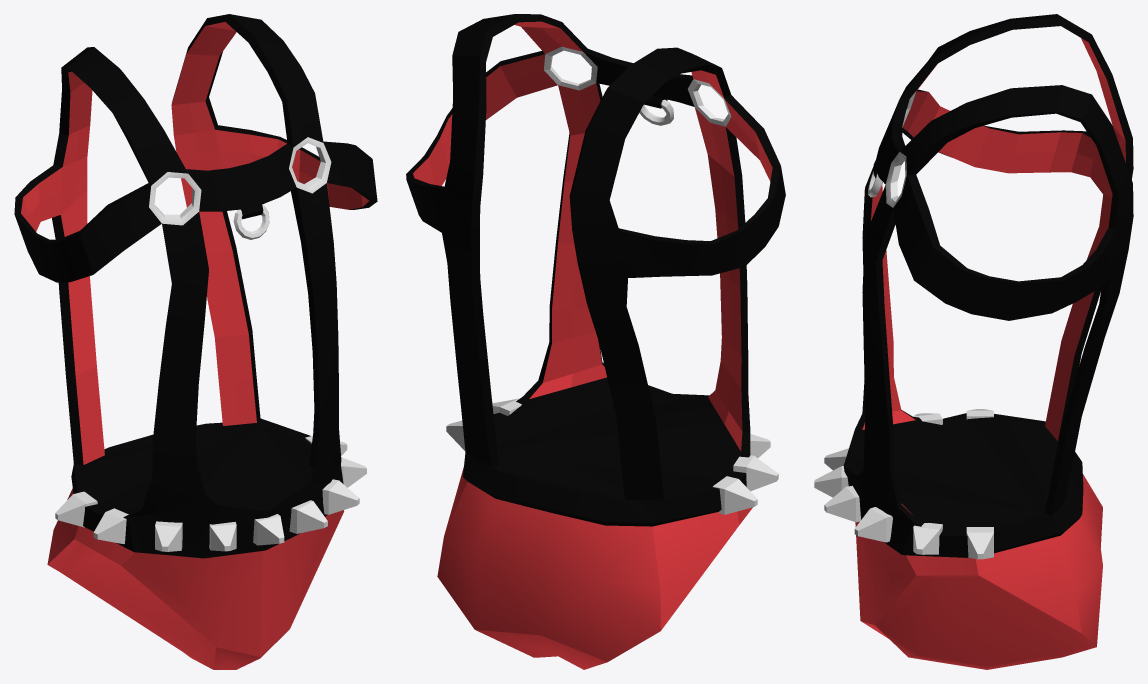
The model's file is NMUnderPants_port.fbx.
The picture shows the model from 3 angles, left to right: view 1: azimuth 30°, elevation 25°; view 2: azimuth 150°, elevation 25°; view 3: azimuth 270°, elevation 25°; orthographic projection. The views are drawn at different scales.
Parts seen in each view (by area): view 1: UnderPants_port; view 2: UnderPants_port; view 3: UnderPants_port.
Boxes of the visible parts, x1,y1,x2,y2 form: UnderPants_port: (14,14,377,669); UnderPants_port: (406,14,785,669); UnderPants_port: (814,14,1133,669).
Size of the model in its own units: 38.86 by 72.66 by 34.01.
